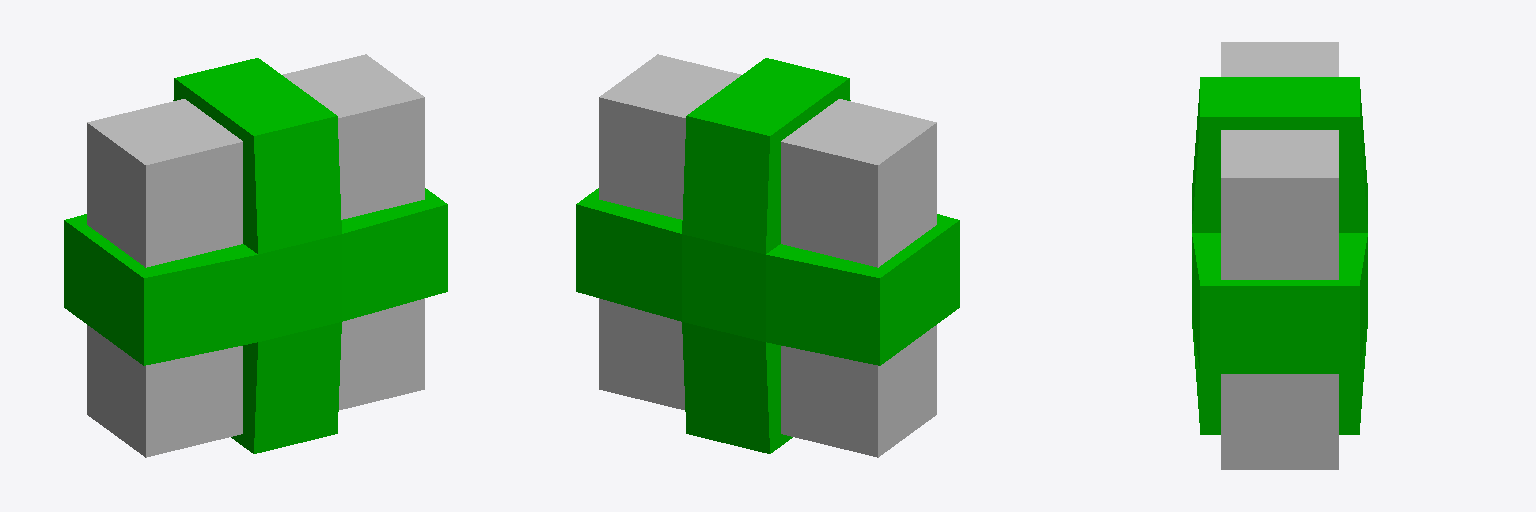
The model's file is Health_pack.obj.
The picture shows the model from 3 angles: view 1: azimuth 30°, elevation 25°; view 2: azimuth 150°, elevation 25°; view 3: azimuth 270°, elevation 25°; orthographic projection.
Visible parts, largest first — view 1: health; view 2: health; view 3: health.
Boxes of the visible parts, box(x1,y1,x2,y2) form: health: box(64, 54, 447, 457); health: box(576, 54, 959, 457); health: box(1192, 42, 1367, 469).
Bounding box in the file's own units: 1.04 × 1.04 × 0.5246.